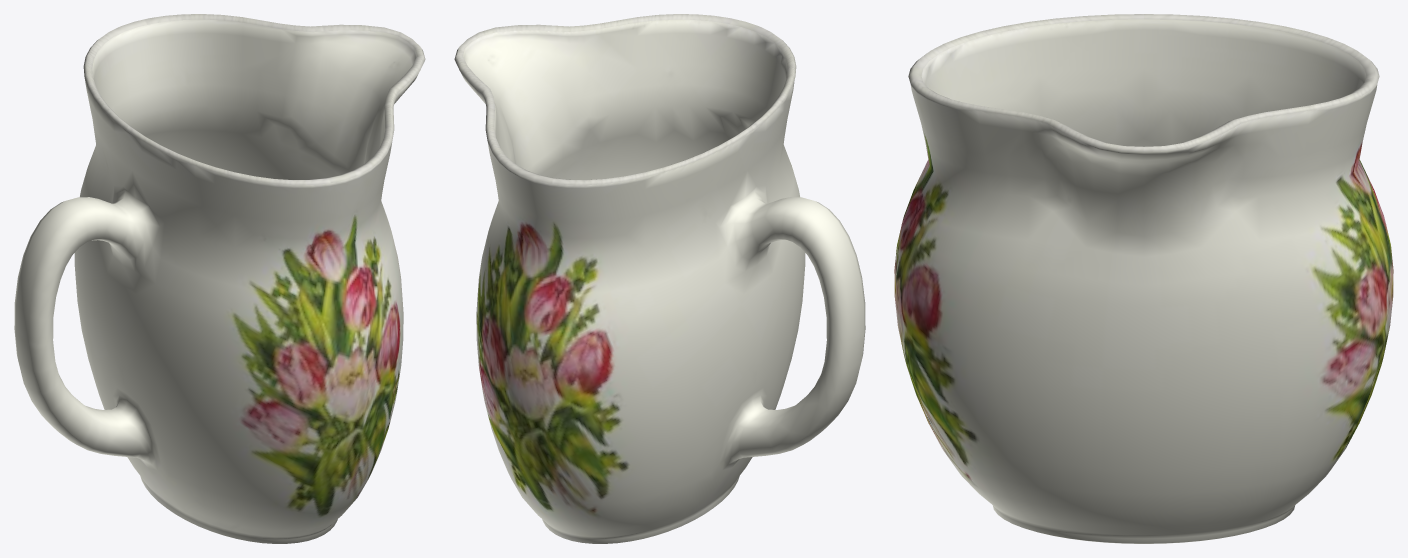
The model's file is ph-jug-01.glb.
3 renders of one model, left to right at view 1: azimuth 30°, elevation 25°; view 2: azimuth 150°, elevation 25°; view 3: azimuth 270°, elevation 25°, orthographic. The views are drawn at different scales.
Visible parts, largest first — view 1: jug_01; view 2: jug_01; view 3: jug_01.
Boxes of the visible parts, bbox=[...] form: jug_01: bbox=[14, 14, 425, 543]; jug_01: bbox=[454, 14, 865, 543]; jug_01: bbox=[894, 14, 1393, 543].
Bounding box in the file's own units: 1 × 1 × 1.
Materials: 1 (1 with a texture image).
